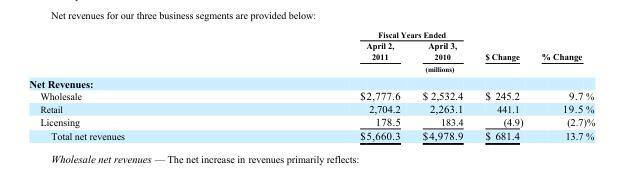table: (28, 29, 594, 141)
table column: (28, 29, 241, 141), (241, 29, 410, 141), (410, 29, 473, 141), (531, 29, 594, 141), (473, 29, 531, 141)
table column header: (28, 29, 594, 74)
table projected row header: (28, 74, 594, 89)
table row: (28, 39, 594, 62), (28, 74, 594, 89), (28, 114, 594, 128), (28, 89, 594, 102), (28, 128, 594, 141), (28, 62, 594, 74), (28, 102, 594, 114), (28, 29, 594, 39)
table spanning cell: (241, 62, 531, 74), (531, 29, 594, 74), (241, 29, 473, 39), (473, 29, 531, 62)
